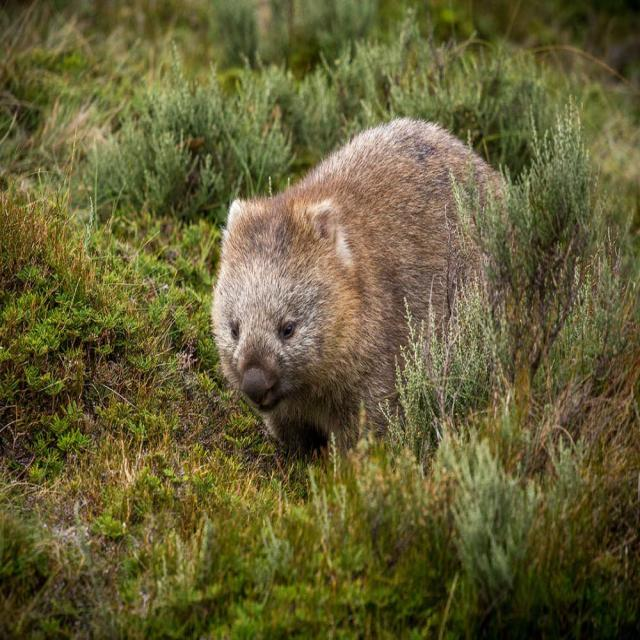Wombat: (208, 110, 538, 446)
